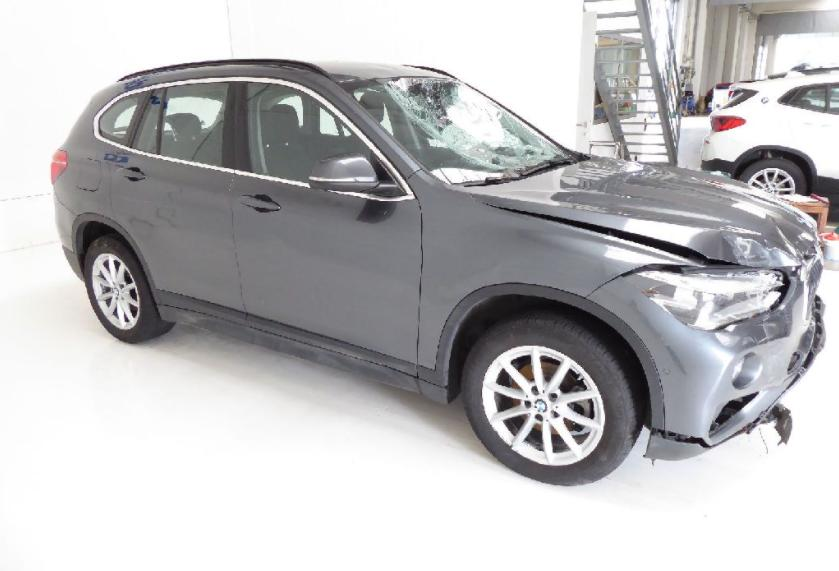Back-bumper: (52, 185, 162, 306)
Back-door: (110, 77, 250, 327)
Back-wheel: (84, 232, 177, 343)
Back-window: (161, 83, 229, 167), (98, 90, 148, 145), (131, 88, 164, 153)
Fender: (407, 167, 706, 370)
Front-bumper: (417, 273, 826, 466)
Front-door: (228, 76, 423, 378)
Front-wheel: (461, 298, 649, 486)
Front-window: (248, 83, 371, 183)
Grille: (796, 247, 824, 325)
Headlight: (637, 268, 790, 331)
Hood: (464, 153, 822, 268)
Mirror: (309, 151, 406, 198)
Quarter-panel: (53, 124, 128, 222)
Rocker-panel: (157, 305, 447, 407)
Roof: (116, 59, 457, 84)
Tail-light: (50, 149, 67, 184)
Windshield: (338, 77, 579, 185)
